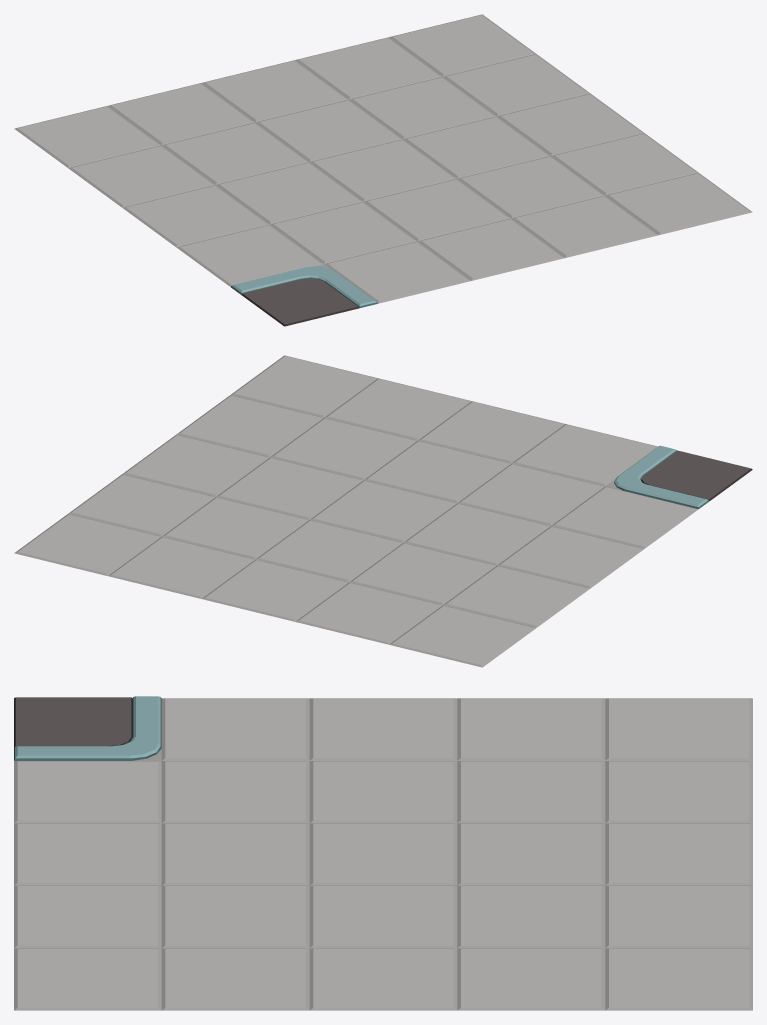
File: OpenFork_0.glb
3 renders of one model, top to bottom at view 1: azimuth 30°, elevation 25°; view 2: azimuth 150°, elevation 25°; view 3: azimuth 270°, elevation 25°, orthographic. The views are drawn at different scales.
Parts seen in each view (by area): view 1: OpenFork_0; view 2: OpenFork_0; view 3: OpenFork_0.
Part boxes in pixels (x1,y1,x2,y2): OpenFork_0: (14, 14, 752, 326); OpenFork_0: (14, 355, 752, 667); OpenFork_0: (14, 696, 752, 1010).
Size of the model in its own units: 16 by 0.0884 by 16.
Materials: 1 (1 with a texture image).
